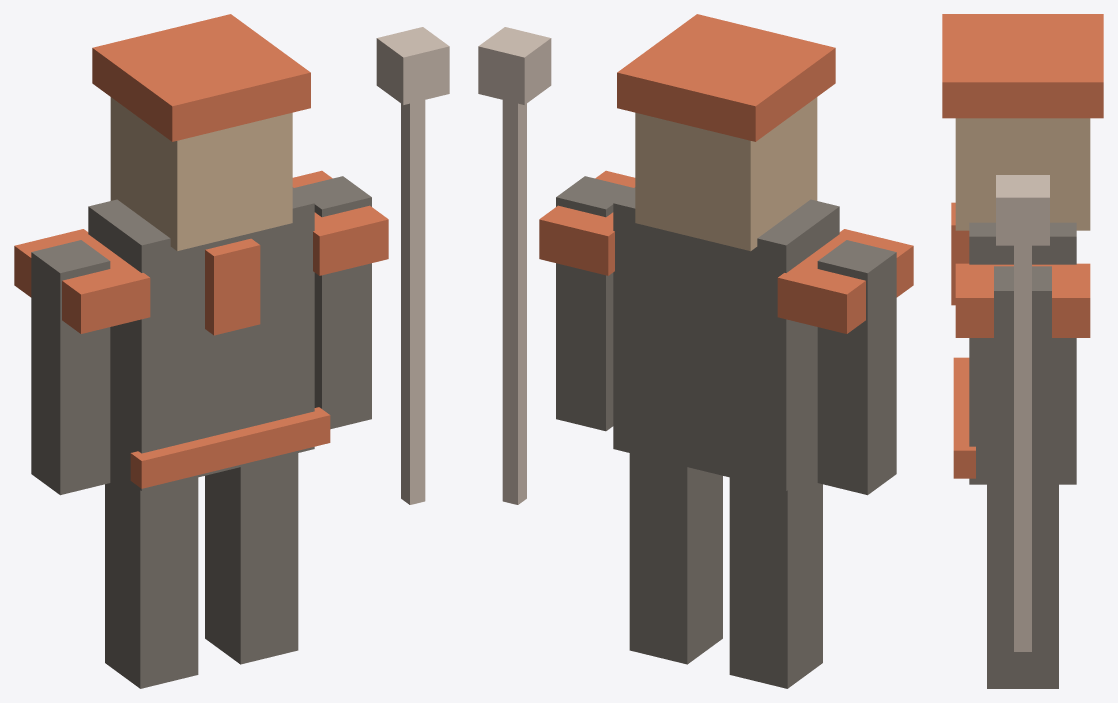
The model's file is 05_ilyra_whispercoil_navigator_near_inferno.glb.
3 renders of one model, left to right at view 1: azimuth 30°, elevation 25°; view 2: azimuth 150°, elevation 25°; view 3: azimuth 270°, elevation 25°, orthographic.
Visible parts, largest first — view 1: Ilyra Whispercoil, Navigator near Inferno; view 2: Ilyra Whispercoil, Navigator near Inferno; view 3: Ilyra Whispercoil, Navigator near Inferno.
Boxes of the visible parts, <box> form: Ilyra Whispercoil, Navigator near Inferno: <box>14,14,449,688</box>; Ilyra Whispercoil, Navigator near Inferno: <box>478,14,913,688</box>; Ilyra Whispercoil, Navigator near Inferno: <box>942,14,1103,688</box>.
Bounding box in the file's own units: 1.1 × 1.61 × 0.3908.
